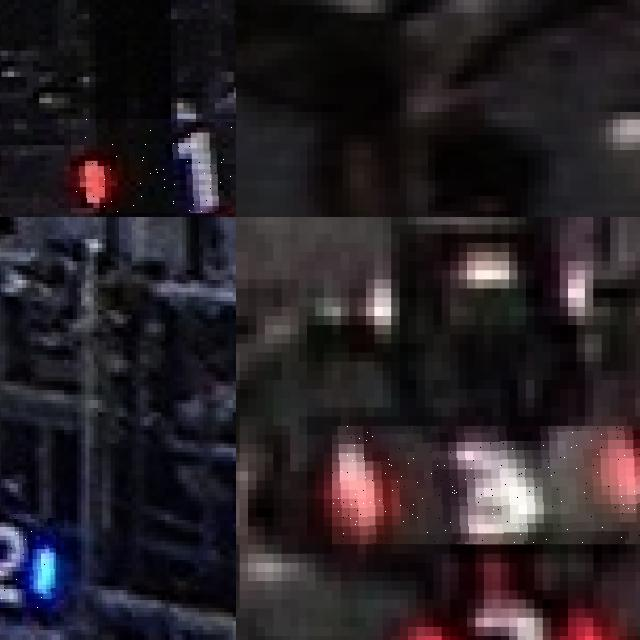B2: (0, 514, 55, 607)
R1: (70, 118, 236, 213)
R3: (332, 425, 640, 544), (408, 590, 610, 640)
